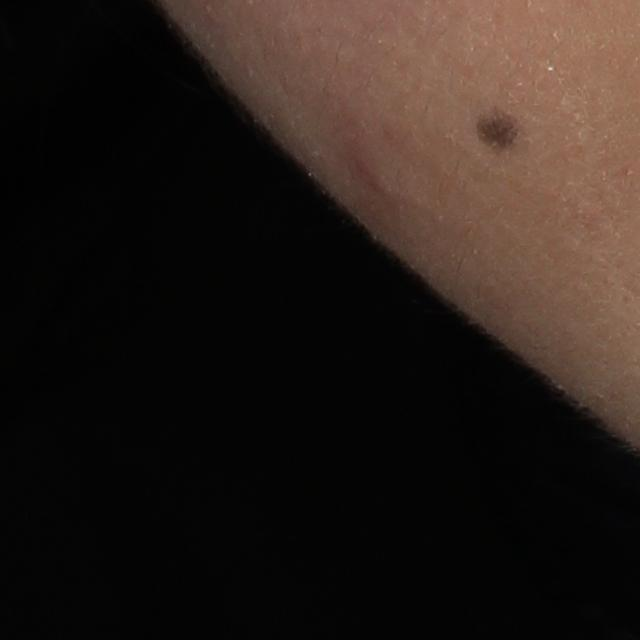nevus: (465, 105, 523, 153)
